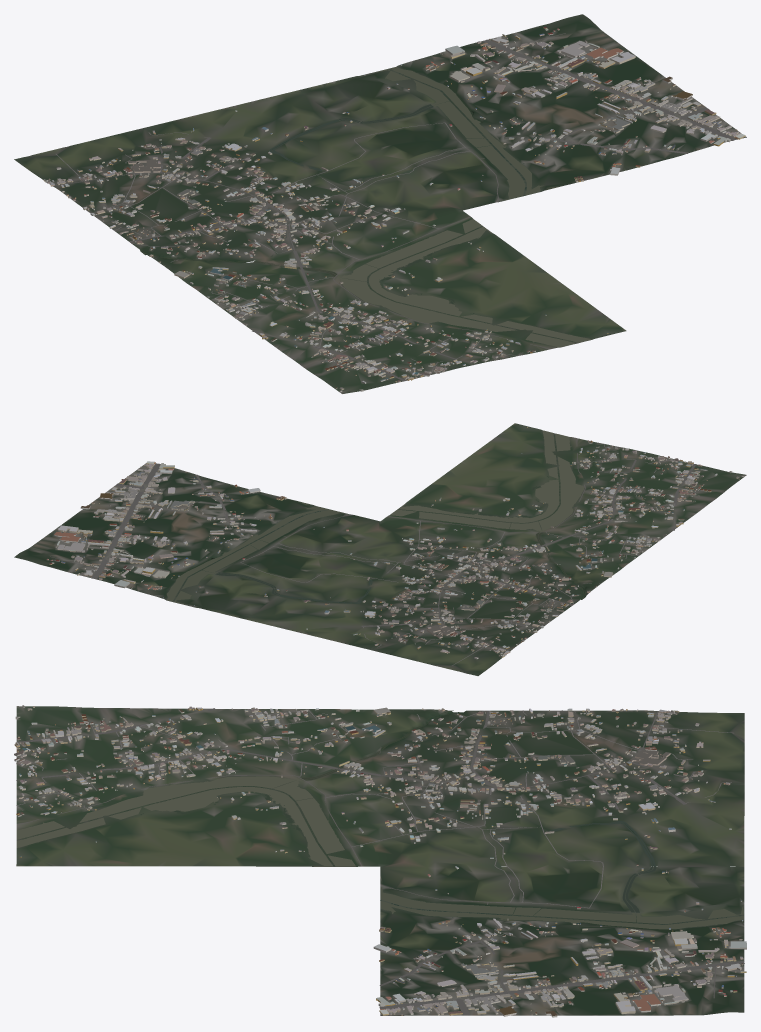
3 renders of one model, top to bottom at view 1: azimuth 30°, elevation 25°; view 2: azimuth 150°, elevation 25°; view 3: azimuth 270°, elevation 25°, orthographic. The views are drawn at different scales.
Visible parts, largest first — view 1: ground, buildings, water, roads; view 2: ground, buildings, water, roads; view 3: ground, buildings, water, roads.
Boxes of the visible parts, bbox=[...] form: ground: bbox=[14, 14, 746, 393]; buildings: bbox=[43, 26, 745, 392]; water: bbox=[142, 67, 591, 347]; roads: bbox=[53, 33, 736, 381]; ground: bbox=[14, 423, 746, 675]; buildings: bbox=[46, 427, 744, 659]; water: bbox=[166, 430, 586, 604]; roads: bbox=[50, 438, 696, 665]; ground: bbox=[16, 706, 744, 1015]; buildings: bbox=[14, 705, 746, 1017]; water: bbox=[16, 710, 743, 929]; roads: bbox=[16, 708, 744, 1015].
Size of the model in its own units: 2823 by 38.78 by 2820.
